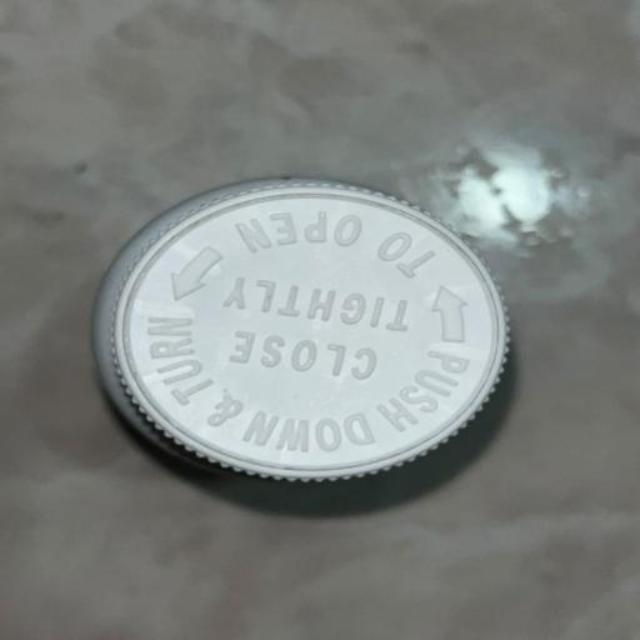HDPE: (53, 149, 574, 518)
